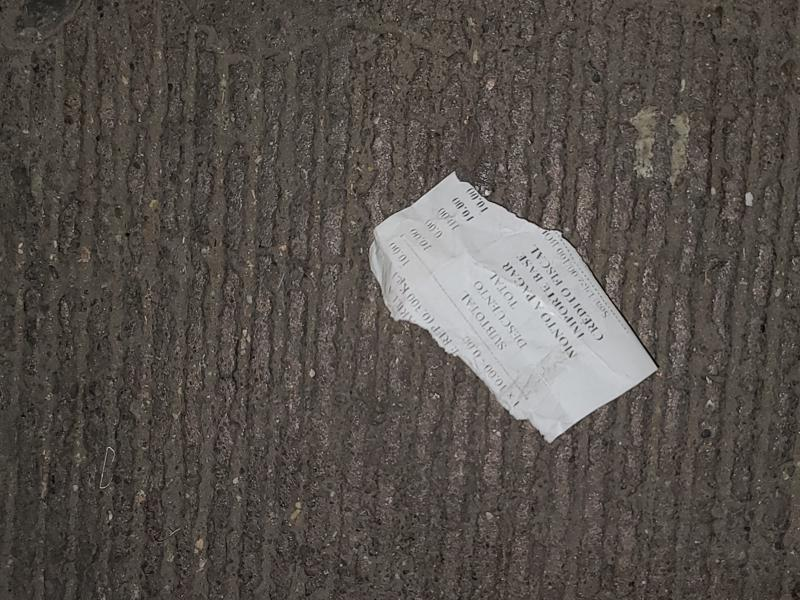papel: (368, 175, 658, 445)
